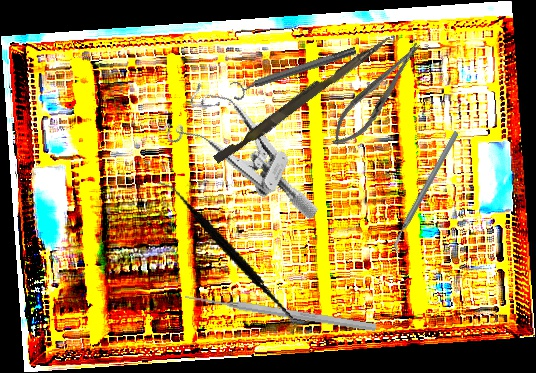Chopper: (359, 129, 494, 255)
Fixation Ring: (228, 41, 360, 102)
Needle Holder: (323, 34, 431, 155)
Pusher: (212, 28, 393, 169), (184, 290, 377, 334)
Spatula Surgical: (132, 178, 334, 326)
Speculum: (151, 75, 345, 221)
